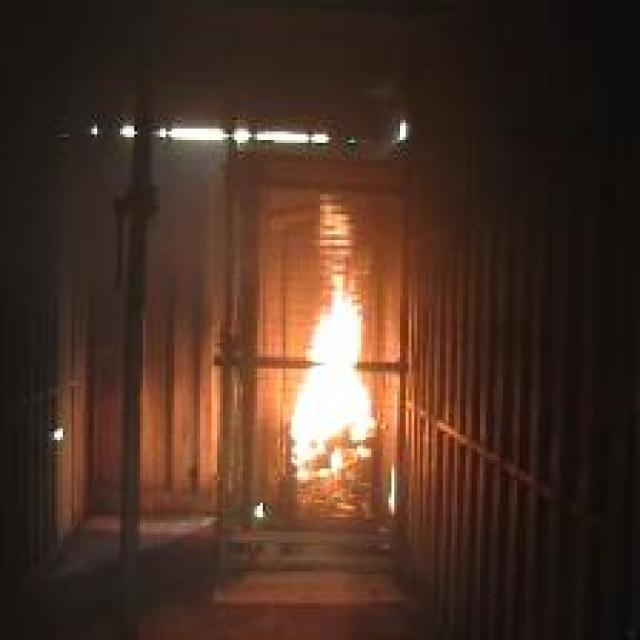Fire: (288, 193, 378, 482)
